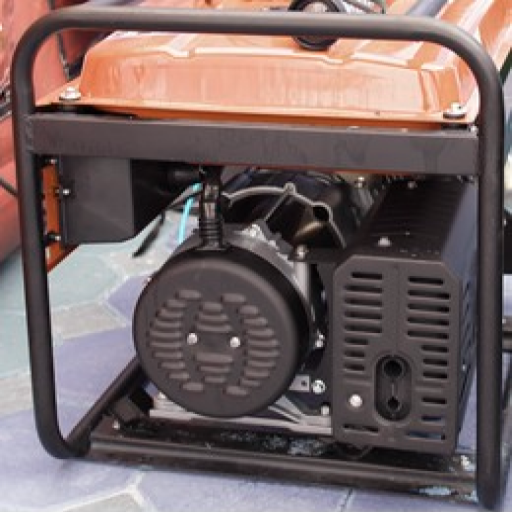portable_generator: (9, 8, 510, 508)
